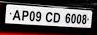numberplate: (3, 3, 92, 28)
